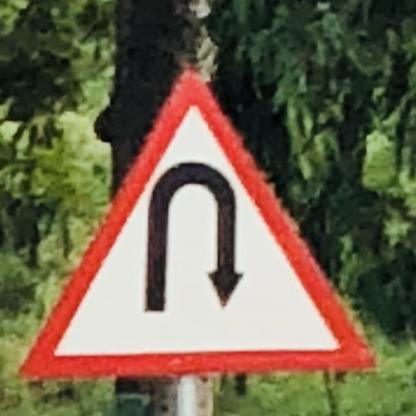U-Turn: (16, 68, 379, 381)
